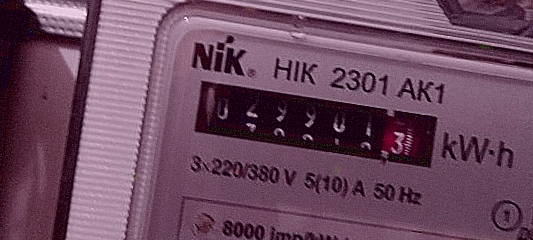0: (210, 91, 232, 121), (329, 104, 349, 135)
1: (360, 108, 377, 137)
2: (241, 90, 263, 120)
3: (386, 127, 407, 155)
9: (271, 95, 291, 124), (301, 101, 318, 129)
screen: (182, 68, 450, 179)
